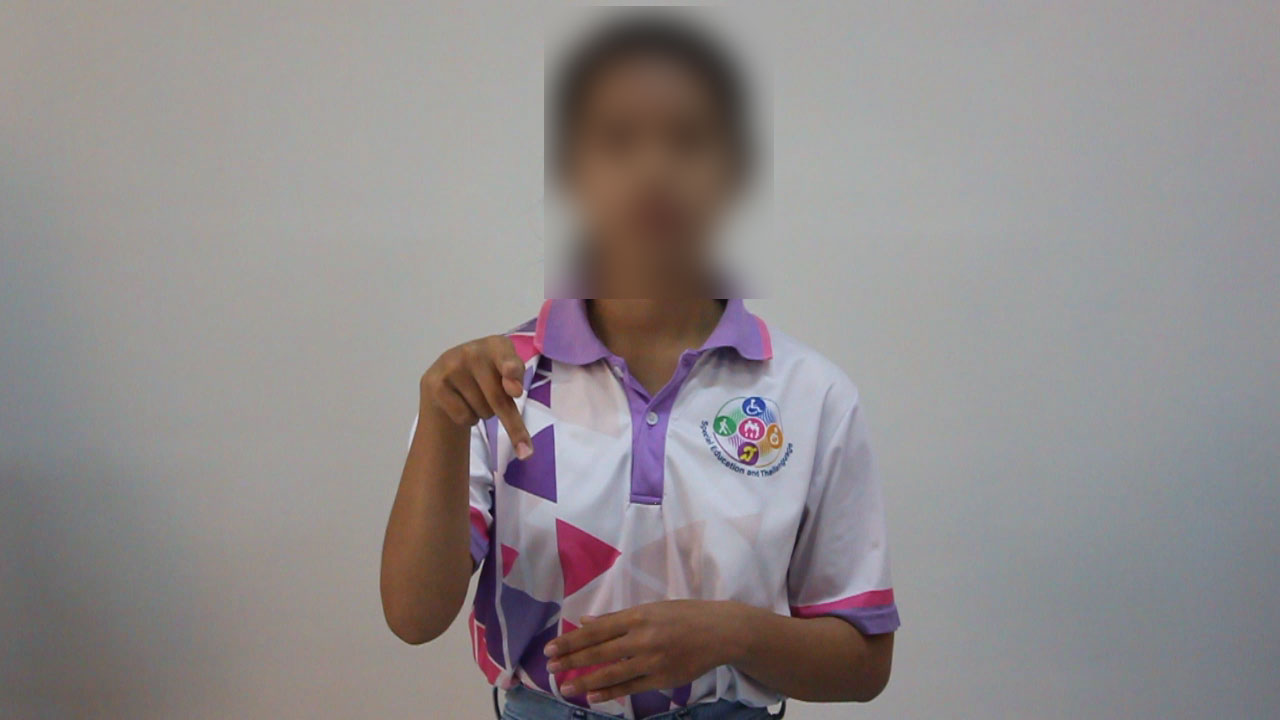por: (395, 321, 549, 474)
